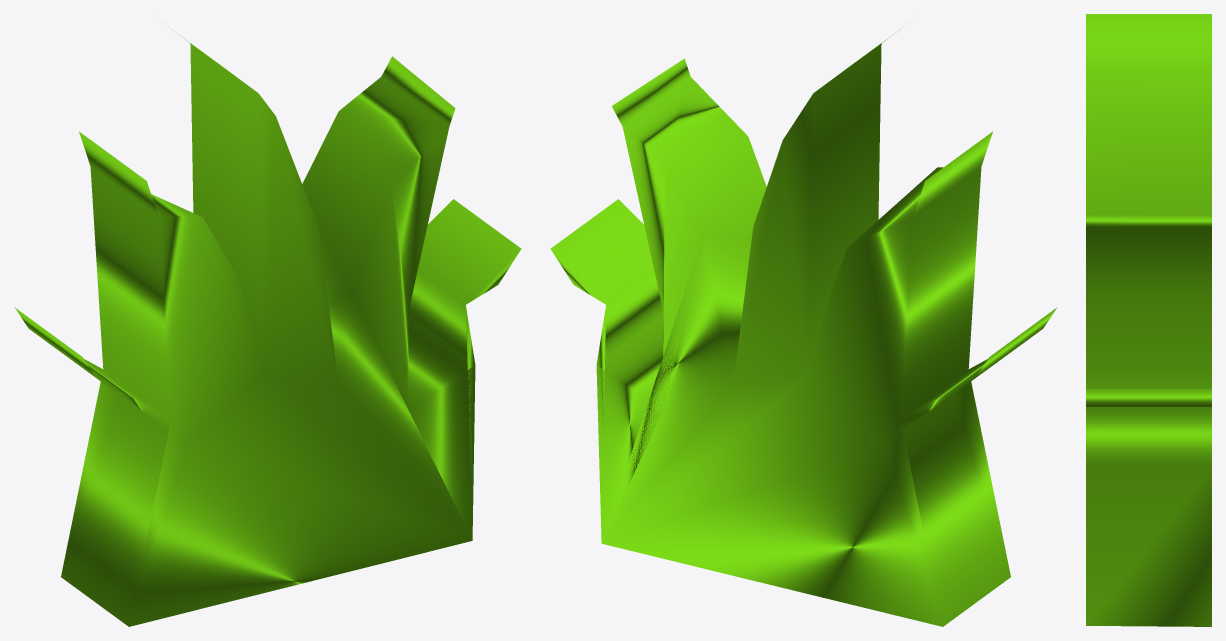
Rendered from gc_3_far.glb.
3 views of the same model, side by side, from view 1: azimuth 30°, elevation 25°; view 2: azimuth 150°, elevation 25°; view 3: azimuth 270°, elevation 25° (orthographic). The views are drawn at different scales.
Parts seen in each view (by area): view 1: Curve.002_Material.001_0; view 2: Curve.002_Material.001_0; view 3: Curve.002_Material.001_0.
Boxes of the visible parts, x1,y1,x2,y2 form: Curve.002_Material.001_0: [14, 27, 521, 626]; Curve.002_Material.001_0: [550, 27, 1057, 626]; Curve.002_Material.001_0: [1086, 14, 1211, 626].
Size of the model in its own units: 0.6838 by 0.8054 by 0.1838.
